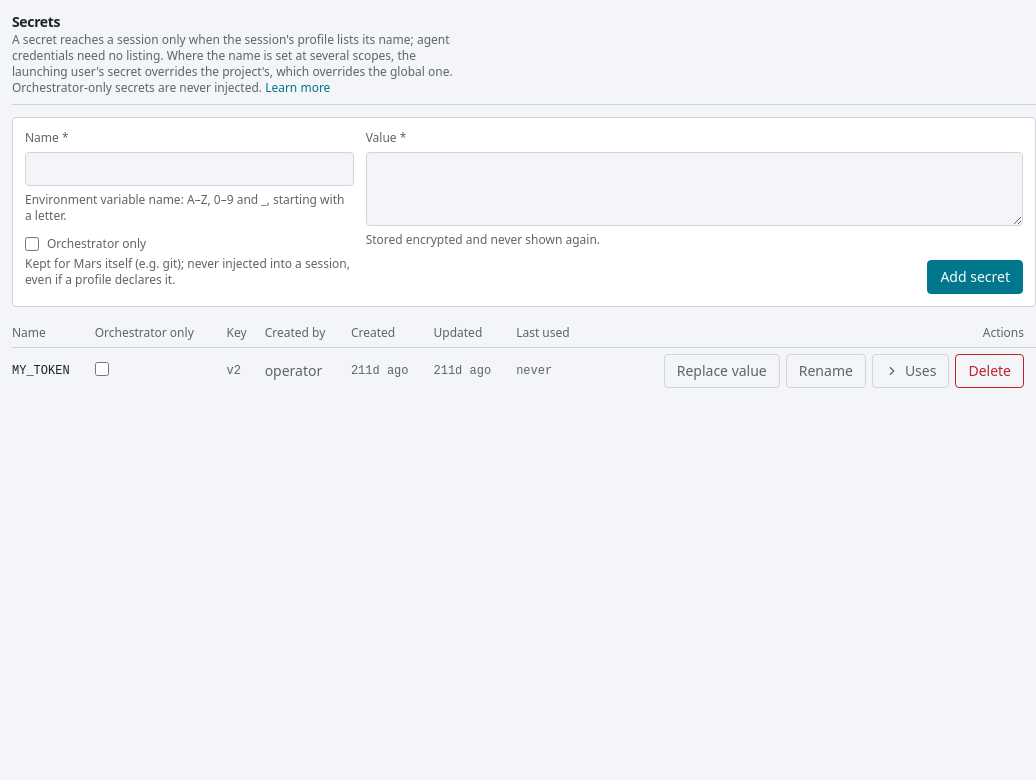
Test: SecretsManager › replaces a value through `PUT /secrets/{id}`
Click the button "Replace value" at (722,371), box top-left (664, 354), bottom-right (780, 388)
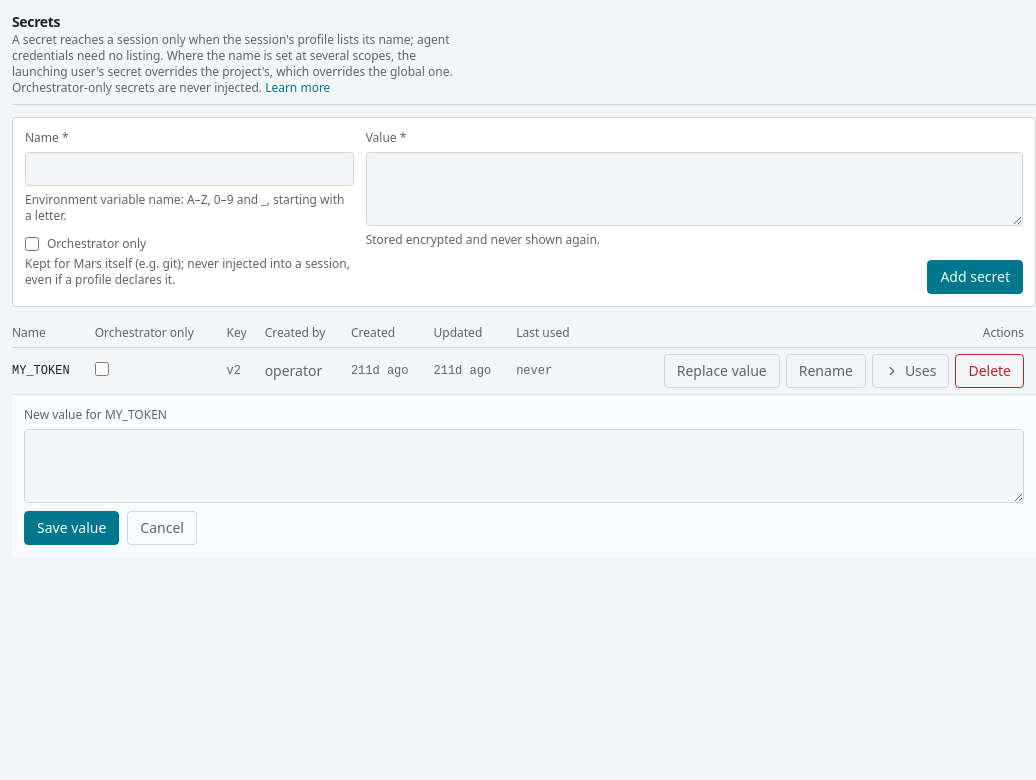
Type "fake-secret-value" into the text box labelled "New value for MY_TOKEN" at (524,466), box top-left (24, 429), bottom-right (1024, 503)
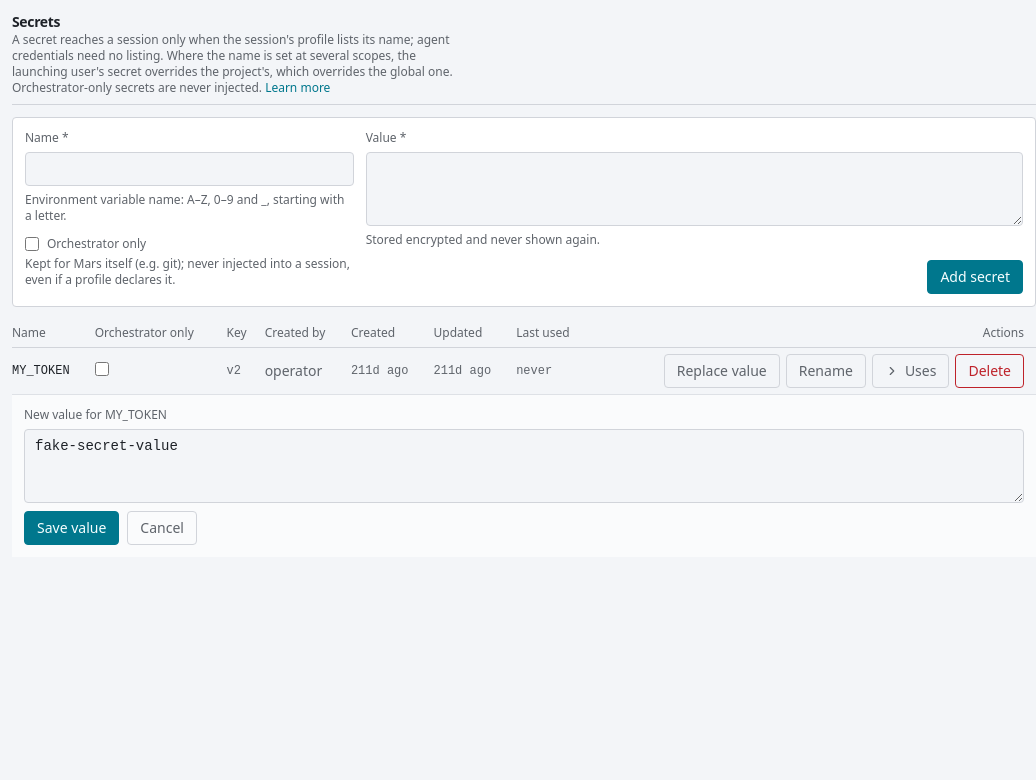
Click the button "Save value" at (72,528), box top-left (24, 511), bottom-right (119, 545)
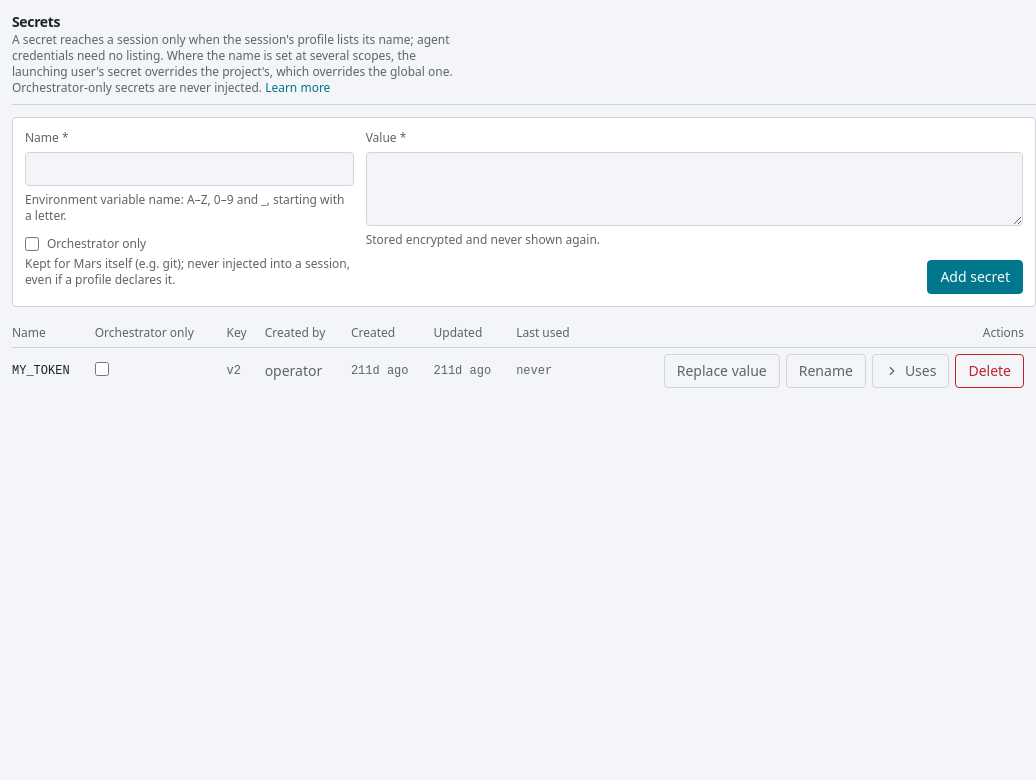
Result: the label labelled "New value for MY_TOKEN" is gone
